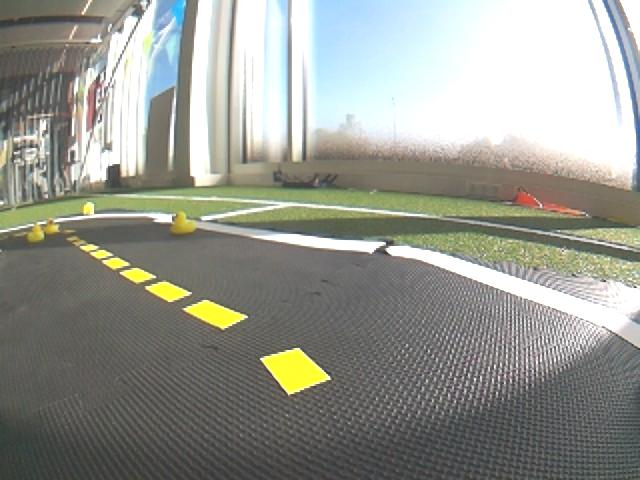Duckies: (171, 211, 197, 233), (27, 225, 45, 242), (43, 218, 59, 234), (82, 204, 92, 213)
